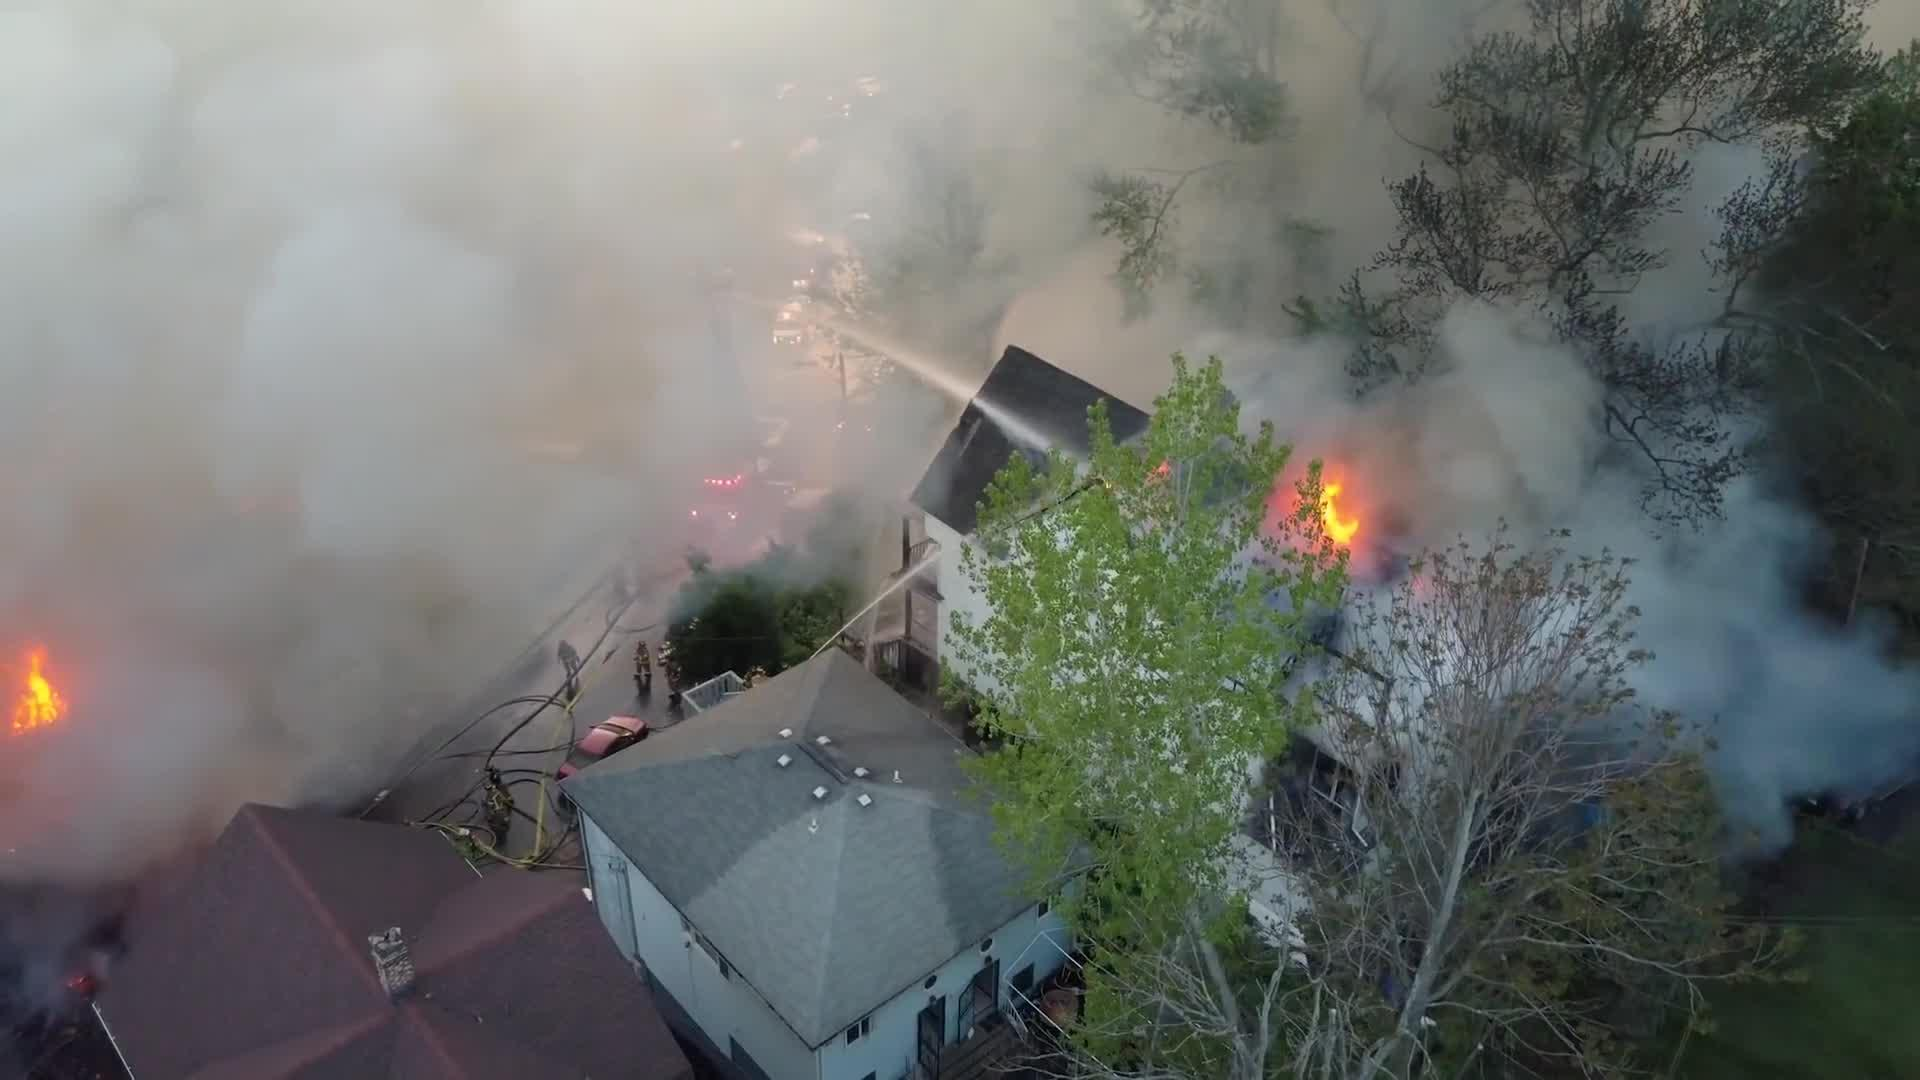fire: (1315, 476, 1365, 553), (18, 654, 63, 729)
smoke: (24, 11, 651, 632), (666, 12, 1390, 344), (1667, 551, 1909, 818)
